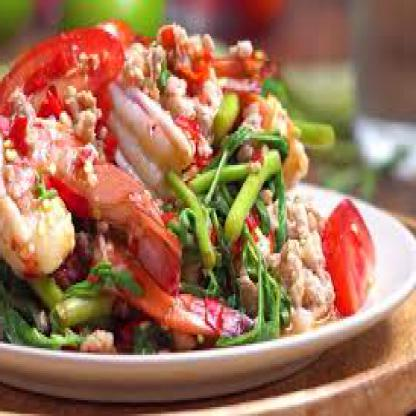Yum: (2, 27, 410, 369)
